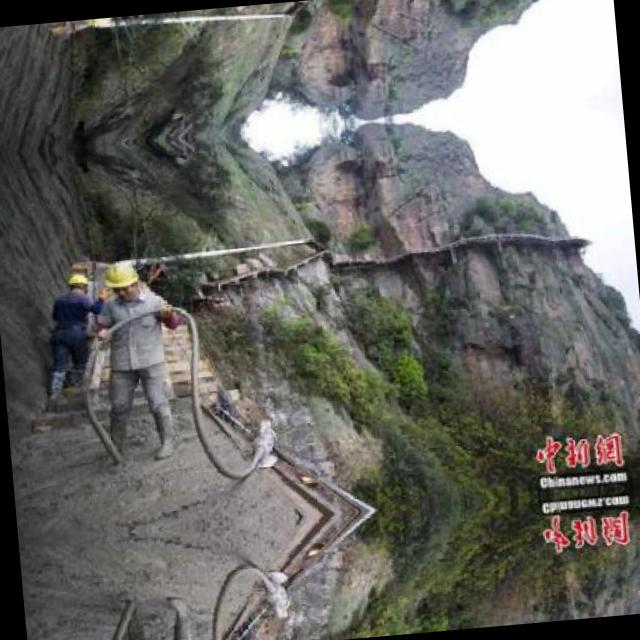helmet: (100, 256, 142, 296), (64, 268, 88, 296), (79, 16, 120, 30)
